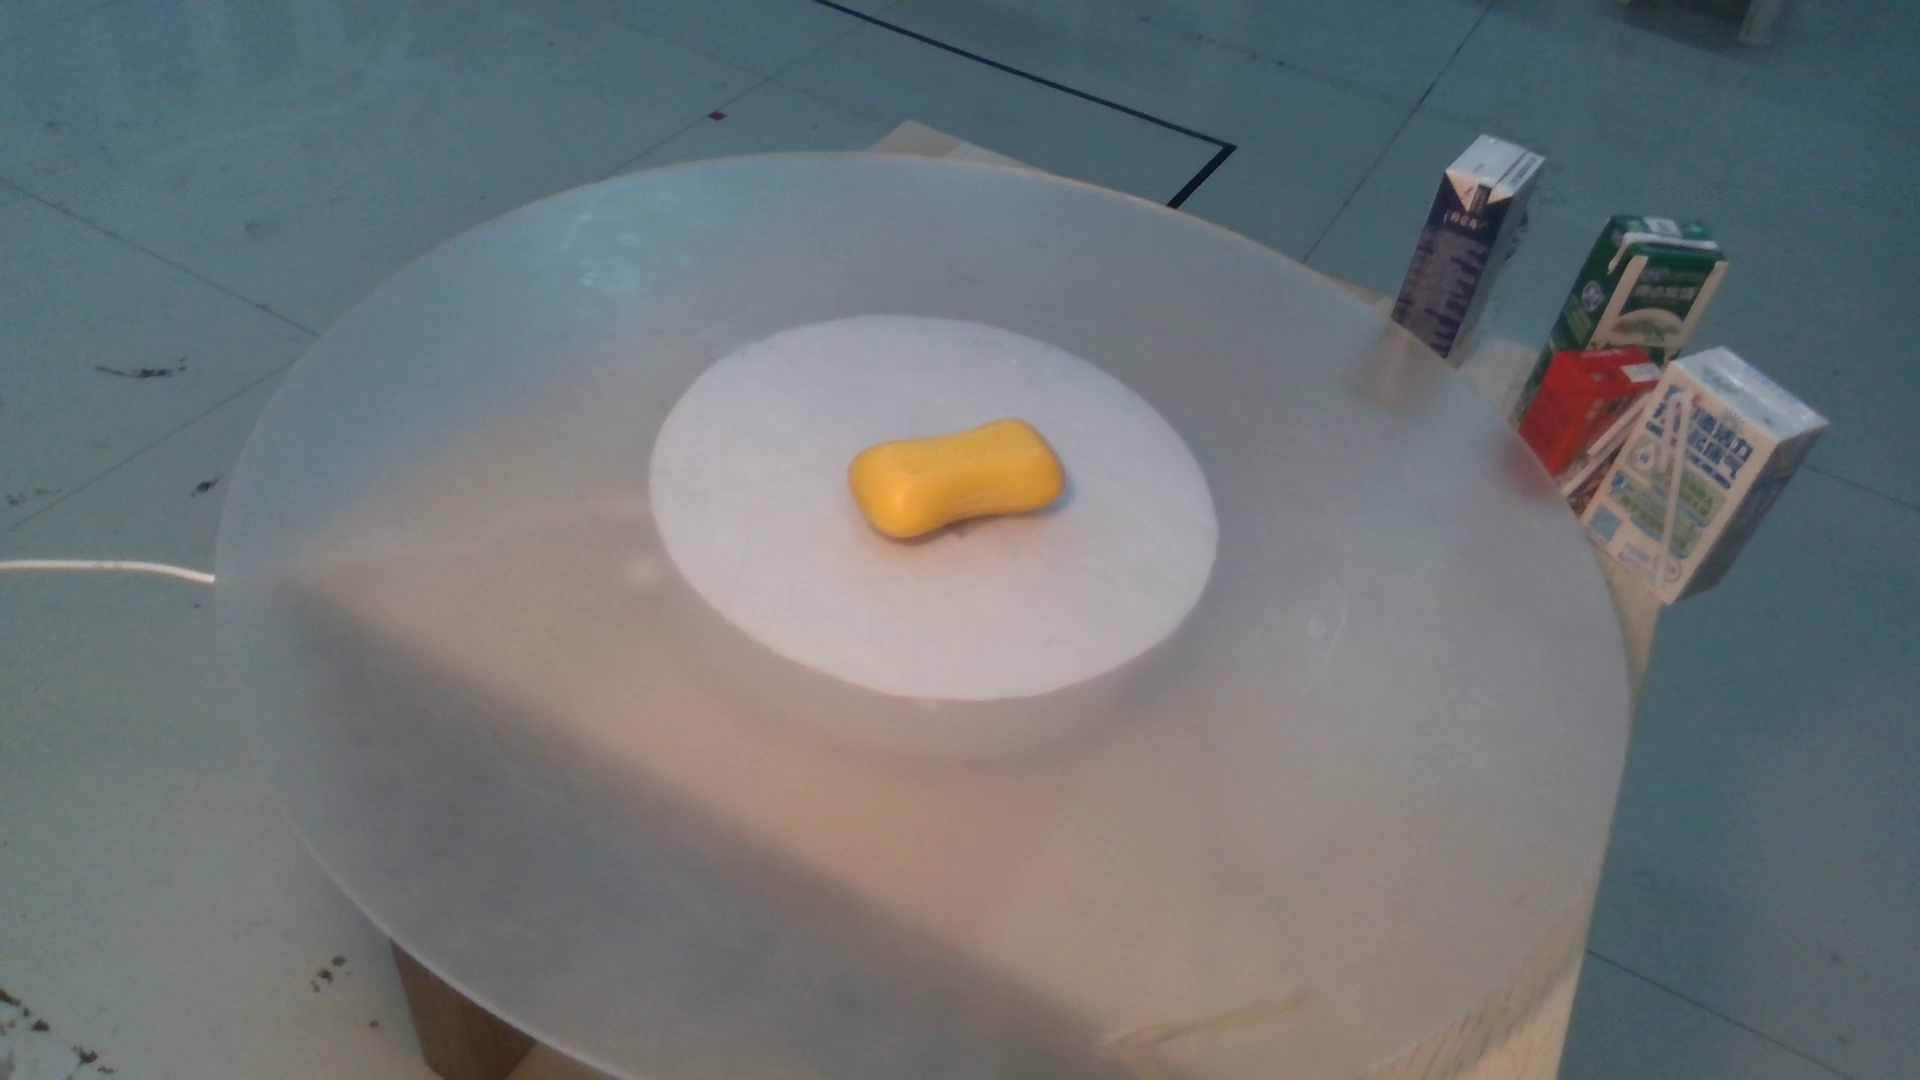CA003_1: (819, 385, 1080, 568)
